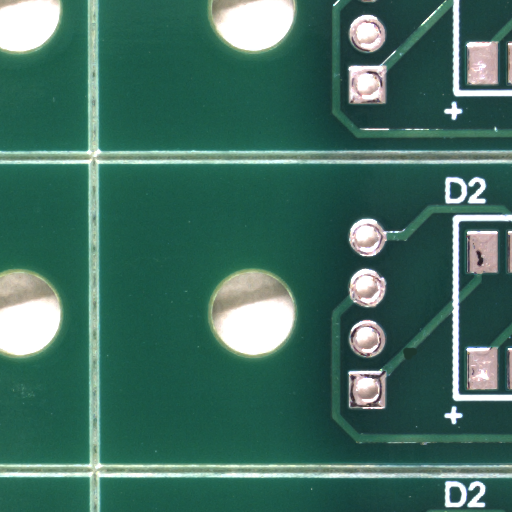Mouse_bite: (409, 352, 422, 365)
